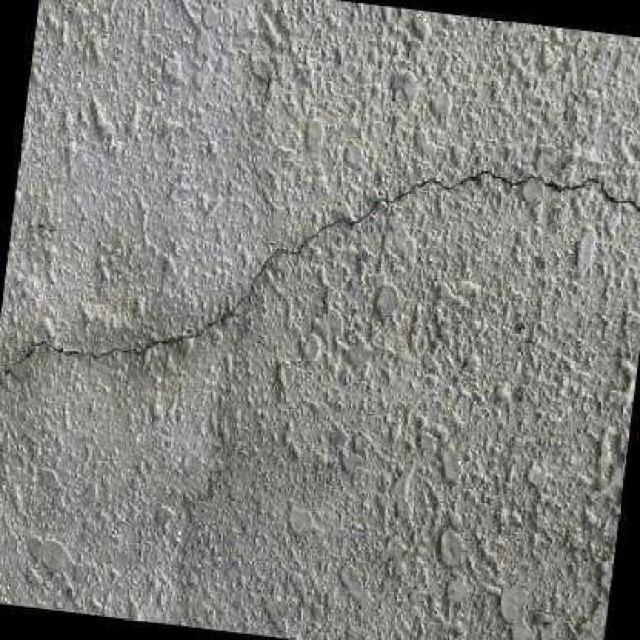D00: (0, 169, 640, 385)
